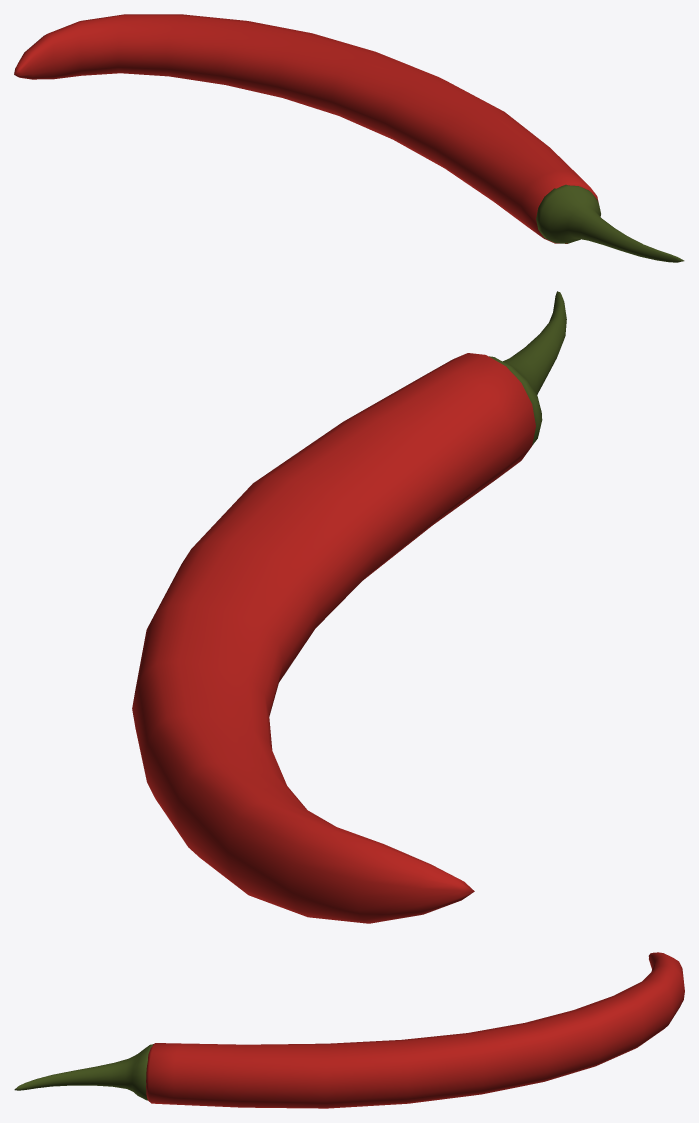
Rendered from pepper.fbx.
The picture shows the model from 3 angles, top to bottom: view 1: azimuth 30°, elevation 25°; view 2: azimuth 150°, elevation 25°; view 3: azimuth 270°, elevation 25°; orthographic projection. The views are drawn at different scales.
Visible parts, largest first — view 1: polySurface34; view 2: polySurface34; view 3: polySurface34.
Part boxes in pixels (x1=…): polySurface34: x1=14, y1=14, x2=684, y2=262; polySurface34: x1=132, y1=291, x2=566, y2=923; polySurface34: x1=14, y1=952, x2=684, y2=1108.
Bounding box in the file's own units: 9.1 × 1.71 × 18.9.
